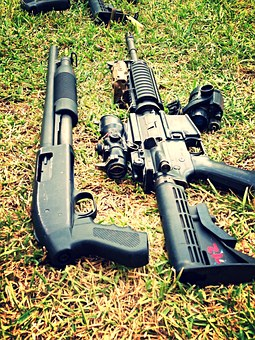rifle: (102, 29, 255, 291)
shotgun: (30, 38, 145, 279)
